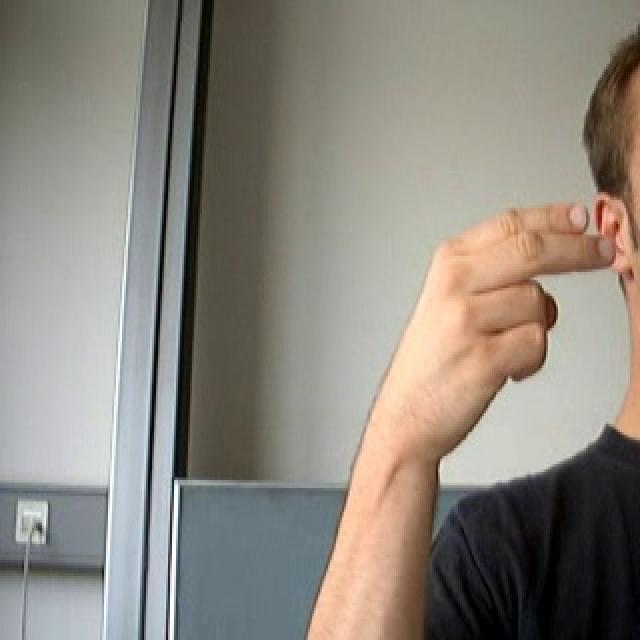H: (333, 197, 619, 476)
